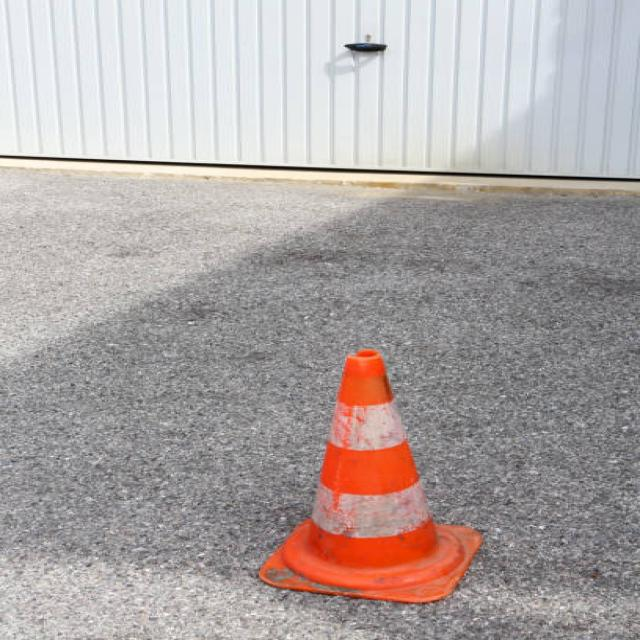Traffic Cone: (238, 305, 515, 620)
